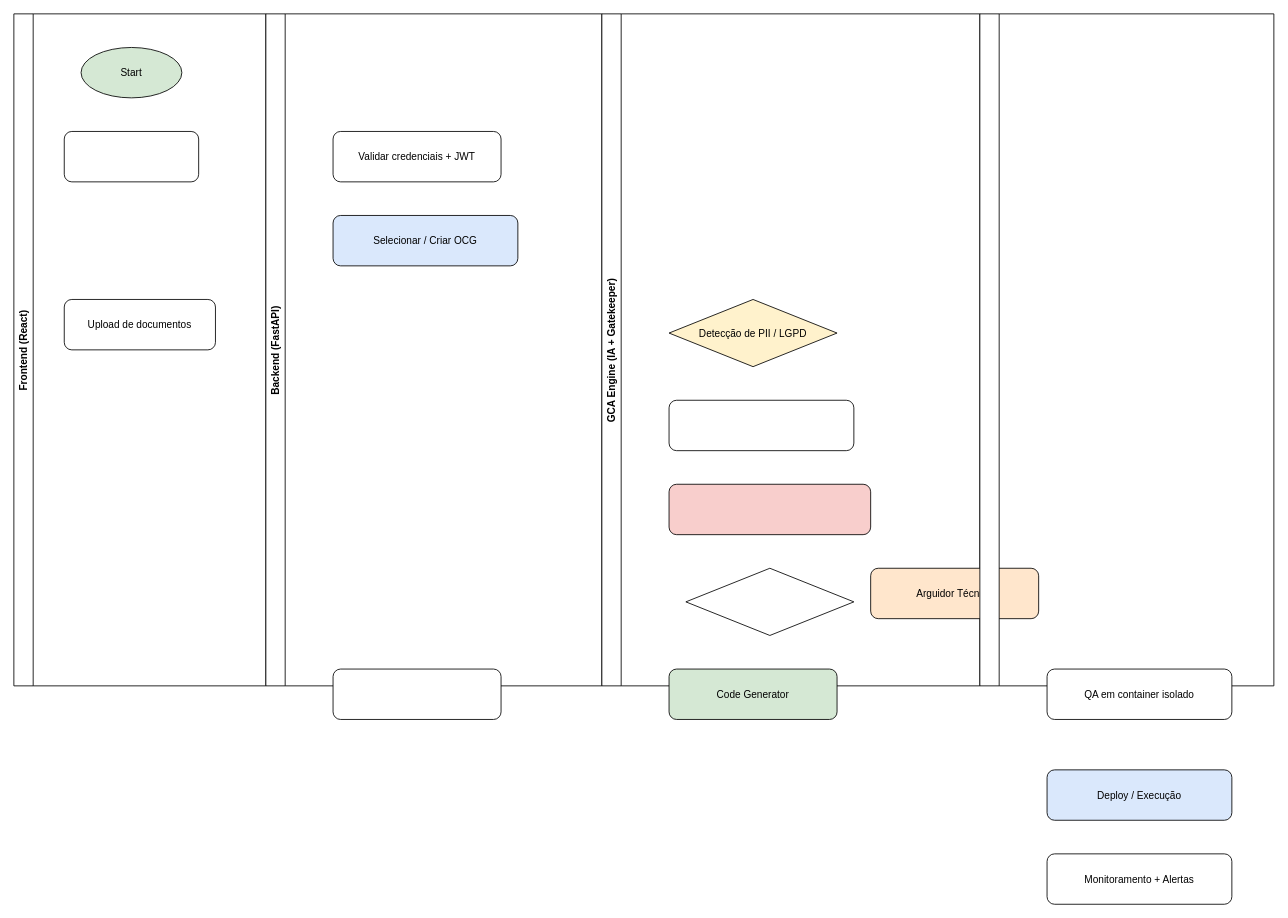
This 1288x918 diagram has some shape labels left out. Each missing label, with the box of its shape:
Aprovado?: (685, 567, 854, 635)
Gatekeeper (7 pilares + score): (668, 483, 871, 535)
Infra (DB / Redis / Docker): (979, 13, 1274, 686)
Login (email/senha): (63, 131, 199, 182)
Merge Engine (doc mestre): (668, 399, 854, 451)
Revisão humana: (332, 668, 501, 719)
